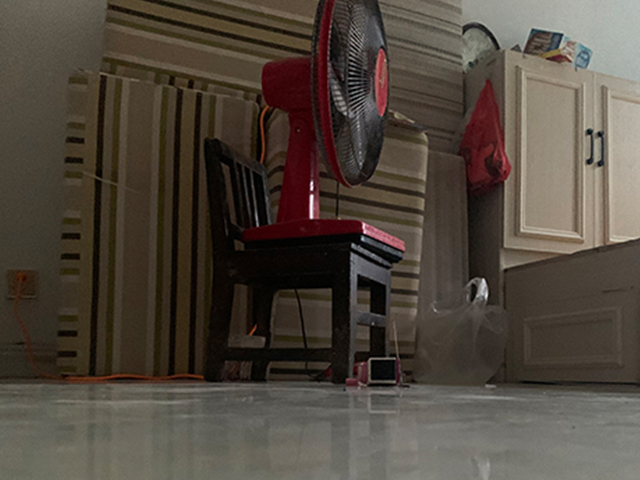bed: (465, 238, 640, 388)
stool: (202, 136, 406, 386)
wire: (11, 273, 205, 382)
